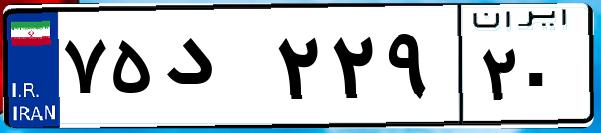0: (525, 38, 570, 115)
2: (270, 28, 330, 110), (330, 28, 385, 110), (475, 38, 525, 113)
5: (110, 28, 158, 98)
7: (57, 26, 110, 100)
9: (385, 28, 445, 110)
د: (158, 20, 270, 120)
